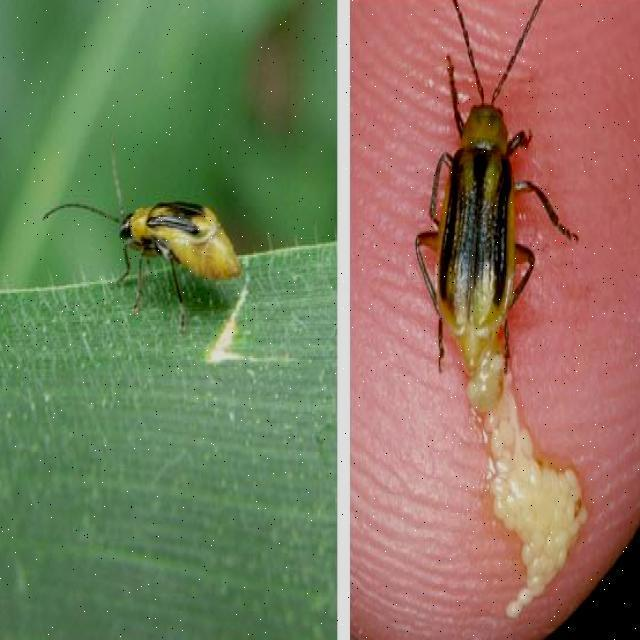trips: (410, 4, 539, 424), (104, 187, 272, 303)
